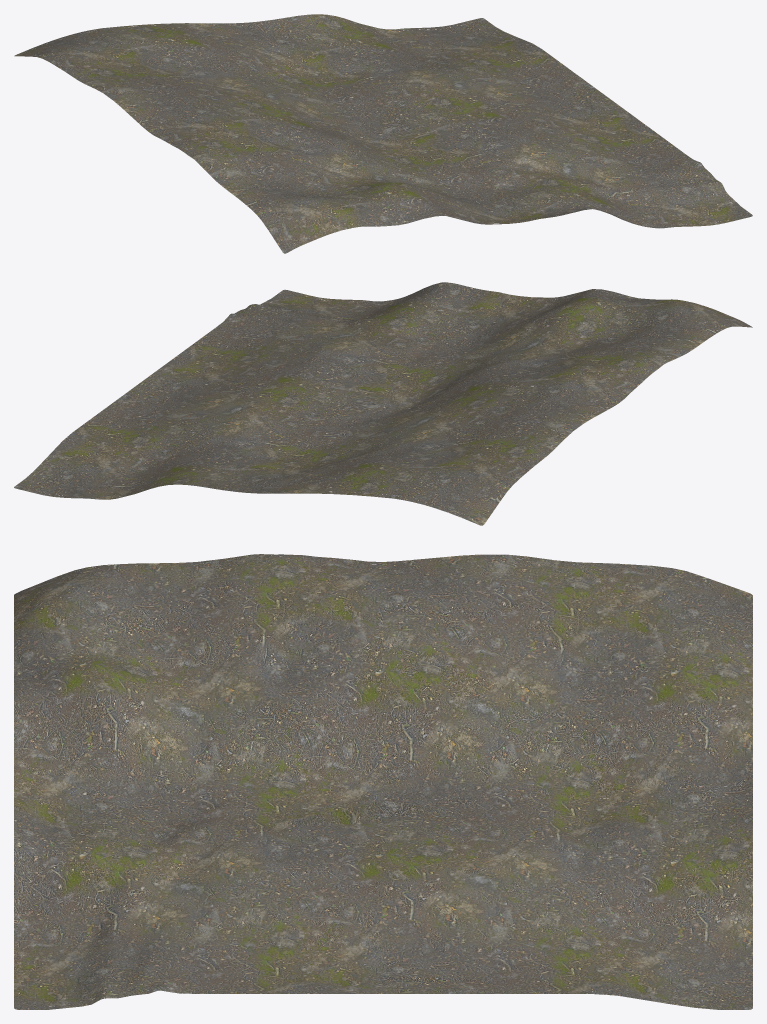
3 renders of one model, top to bottom at view 1: azimuth 30°, elevation 25°; view 2: azimuth 150°, elevation 25°; view 3: azimuth 270°, elevation 25°, orthographic. The views are drawn at different scales.
Visible parts, largest first — view 1: Plane.005; view 2: Plane.005; view 3: Plane.005.
Part boxes in pixels (box(x1,y1,x2,y2)): Plane.005: box(14, 14, 752, 253); Plane.005: box(14, 282, 752, 525); Plane.005: box(14, 554, 752, 1009).
Size of the model in its own units: 58.15 by 12.73 by 58.07.
Materials: 1 (1 with a texture image).
